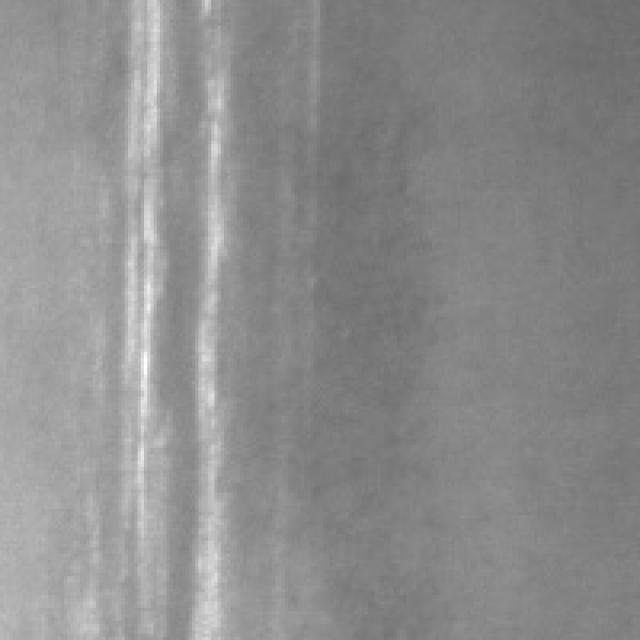scratches: (102, 0, 163, 630), (179, 70, 224, 630)
